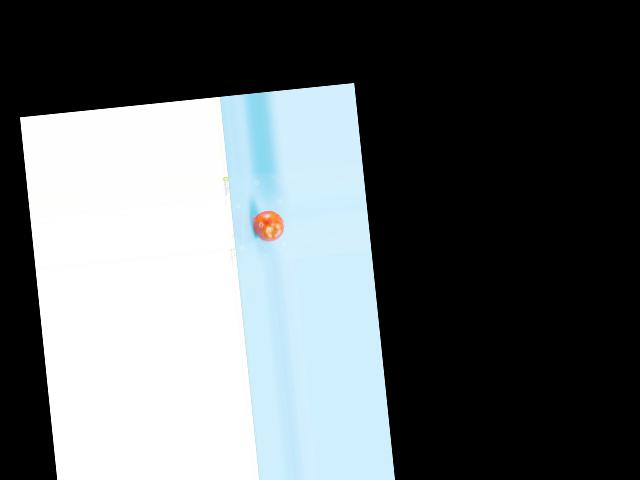tomato: (252, 209, 285, 243)
